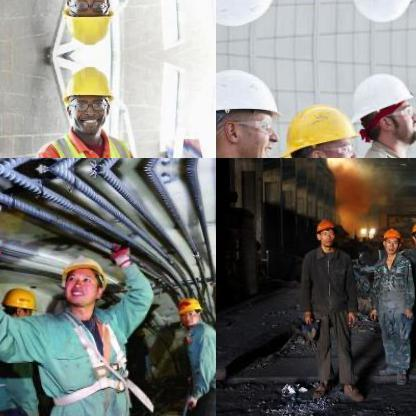Helmet: (216, 58, 282, 157), (347, 62, 415, 146), (282, 96, 365, 157), (57, 57, 118, 137), (56, 0, 119, 53), (59, 250, 111, 308), (216, 0, 283, 36), (347, 0, 415, 31), (2, 284, 38, 318), (312, 216, 338, 247), (176, 295, 200, 325), (380, 224, 400, 252), (409, 217, 415, 246)
